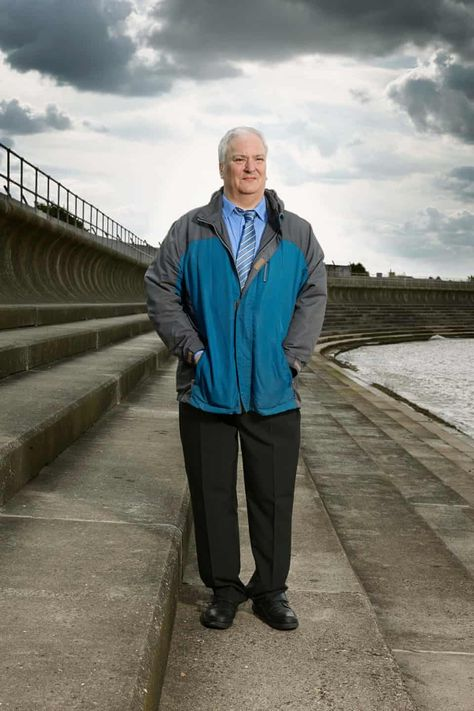person: (142, 126, 348, 634)
